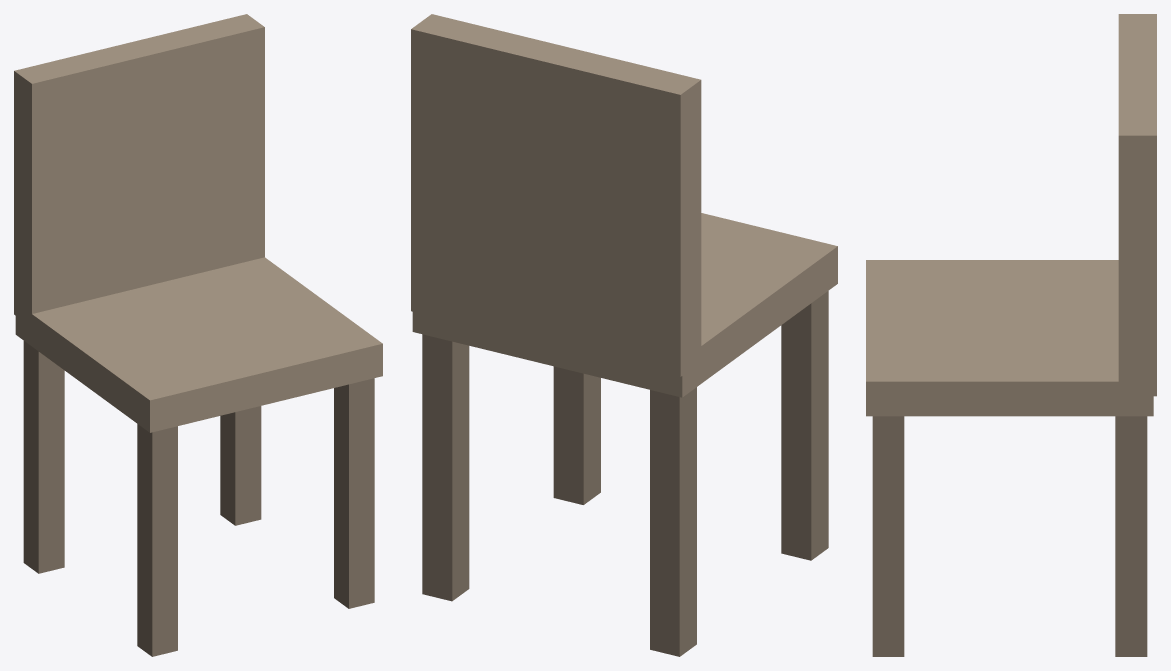
Rendered from chair.glb.
3 renders of one model, left to right at view 1: azimuth 30°, elevation 25°; view 2: azimuth 150°, elevation 25°; view 3: azimuth 270°, elevation 25°, orthographic. The views are drawn at different scales.
Parts seen in each view (by area): view 1: world; view 2: world; view 3: world.
Part boxes in pixels (left/top/right/bottom): world: left=14, top=14, right=382, bottom=656; world: left=411, top=14, right=837, bottom=656; world: left=866, top=14, right=1156, bottom=656.
Size of the model in its own units: 0.45 by 0.905 by 0.455.
